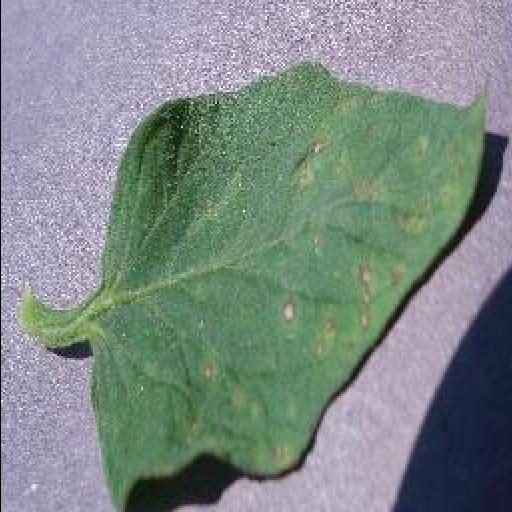disease_tomato: (89, 67, 495, 509)
